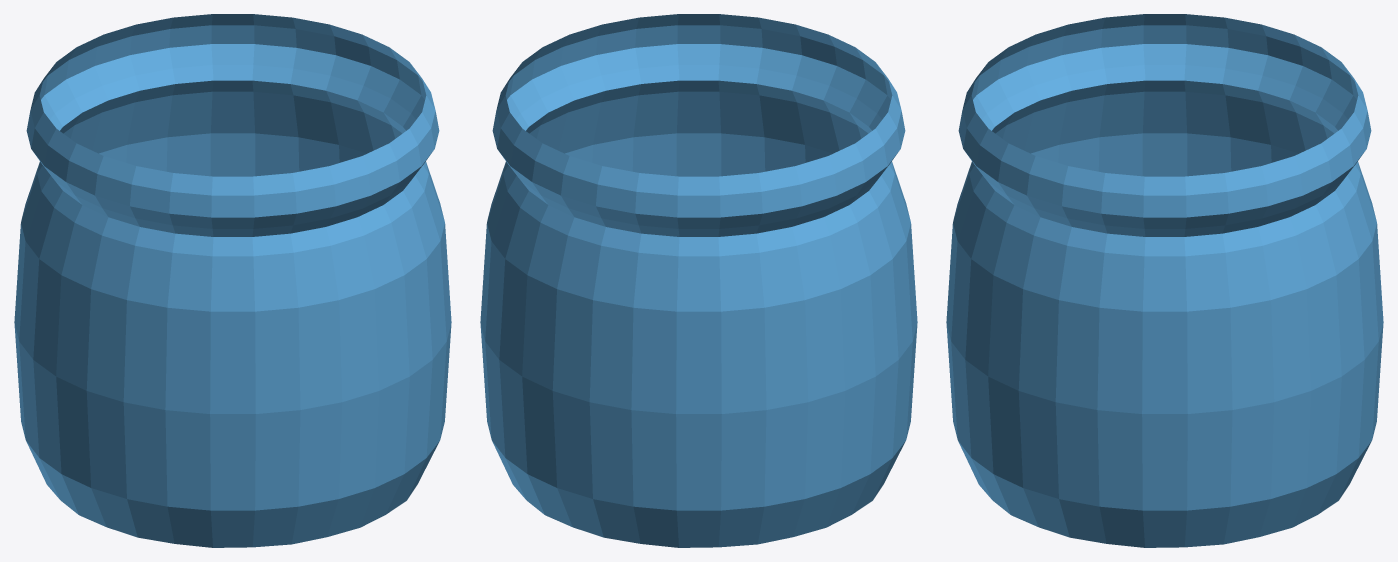
Rendered from kaarspotje.glb.
3 renders of one model, left to right at view 1: azimuth 30°, elevation 25°; view 2: azimuth 150°, elevation 25°; view 3: azimuth 270°, elevation 25°, orthographic.
Visible parts, largest first — view 1: pot; view 2: pot; view 3: pot.
Part boxes in pixels (x1,y1,x2,y2): pot: [14, 14, 451, 547]; pot: [480, 14, 917, 547]; pot: [946, 14, 1383, 547].
Bounding box in the file's own units: 0.1913 × 0.1867 × 0.1923.
